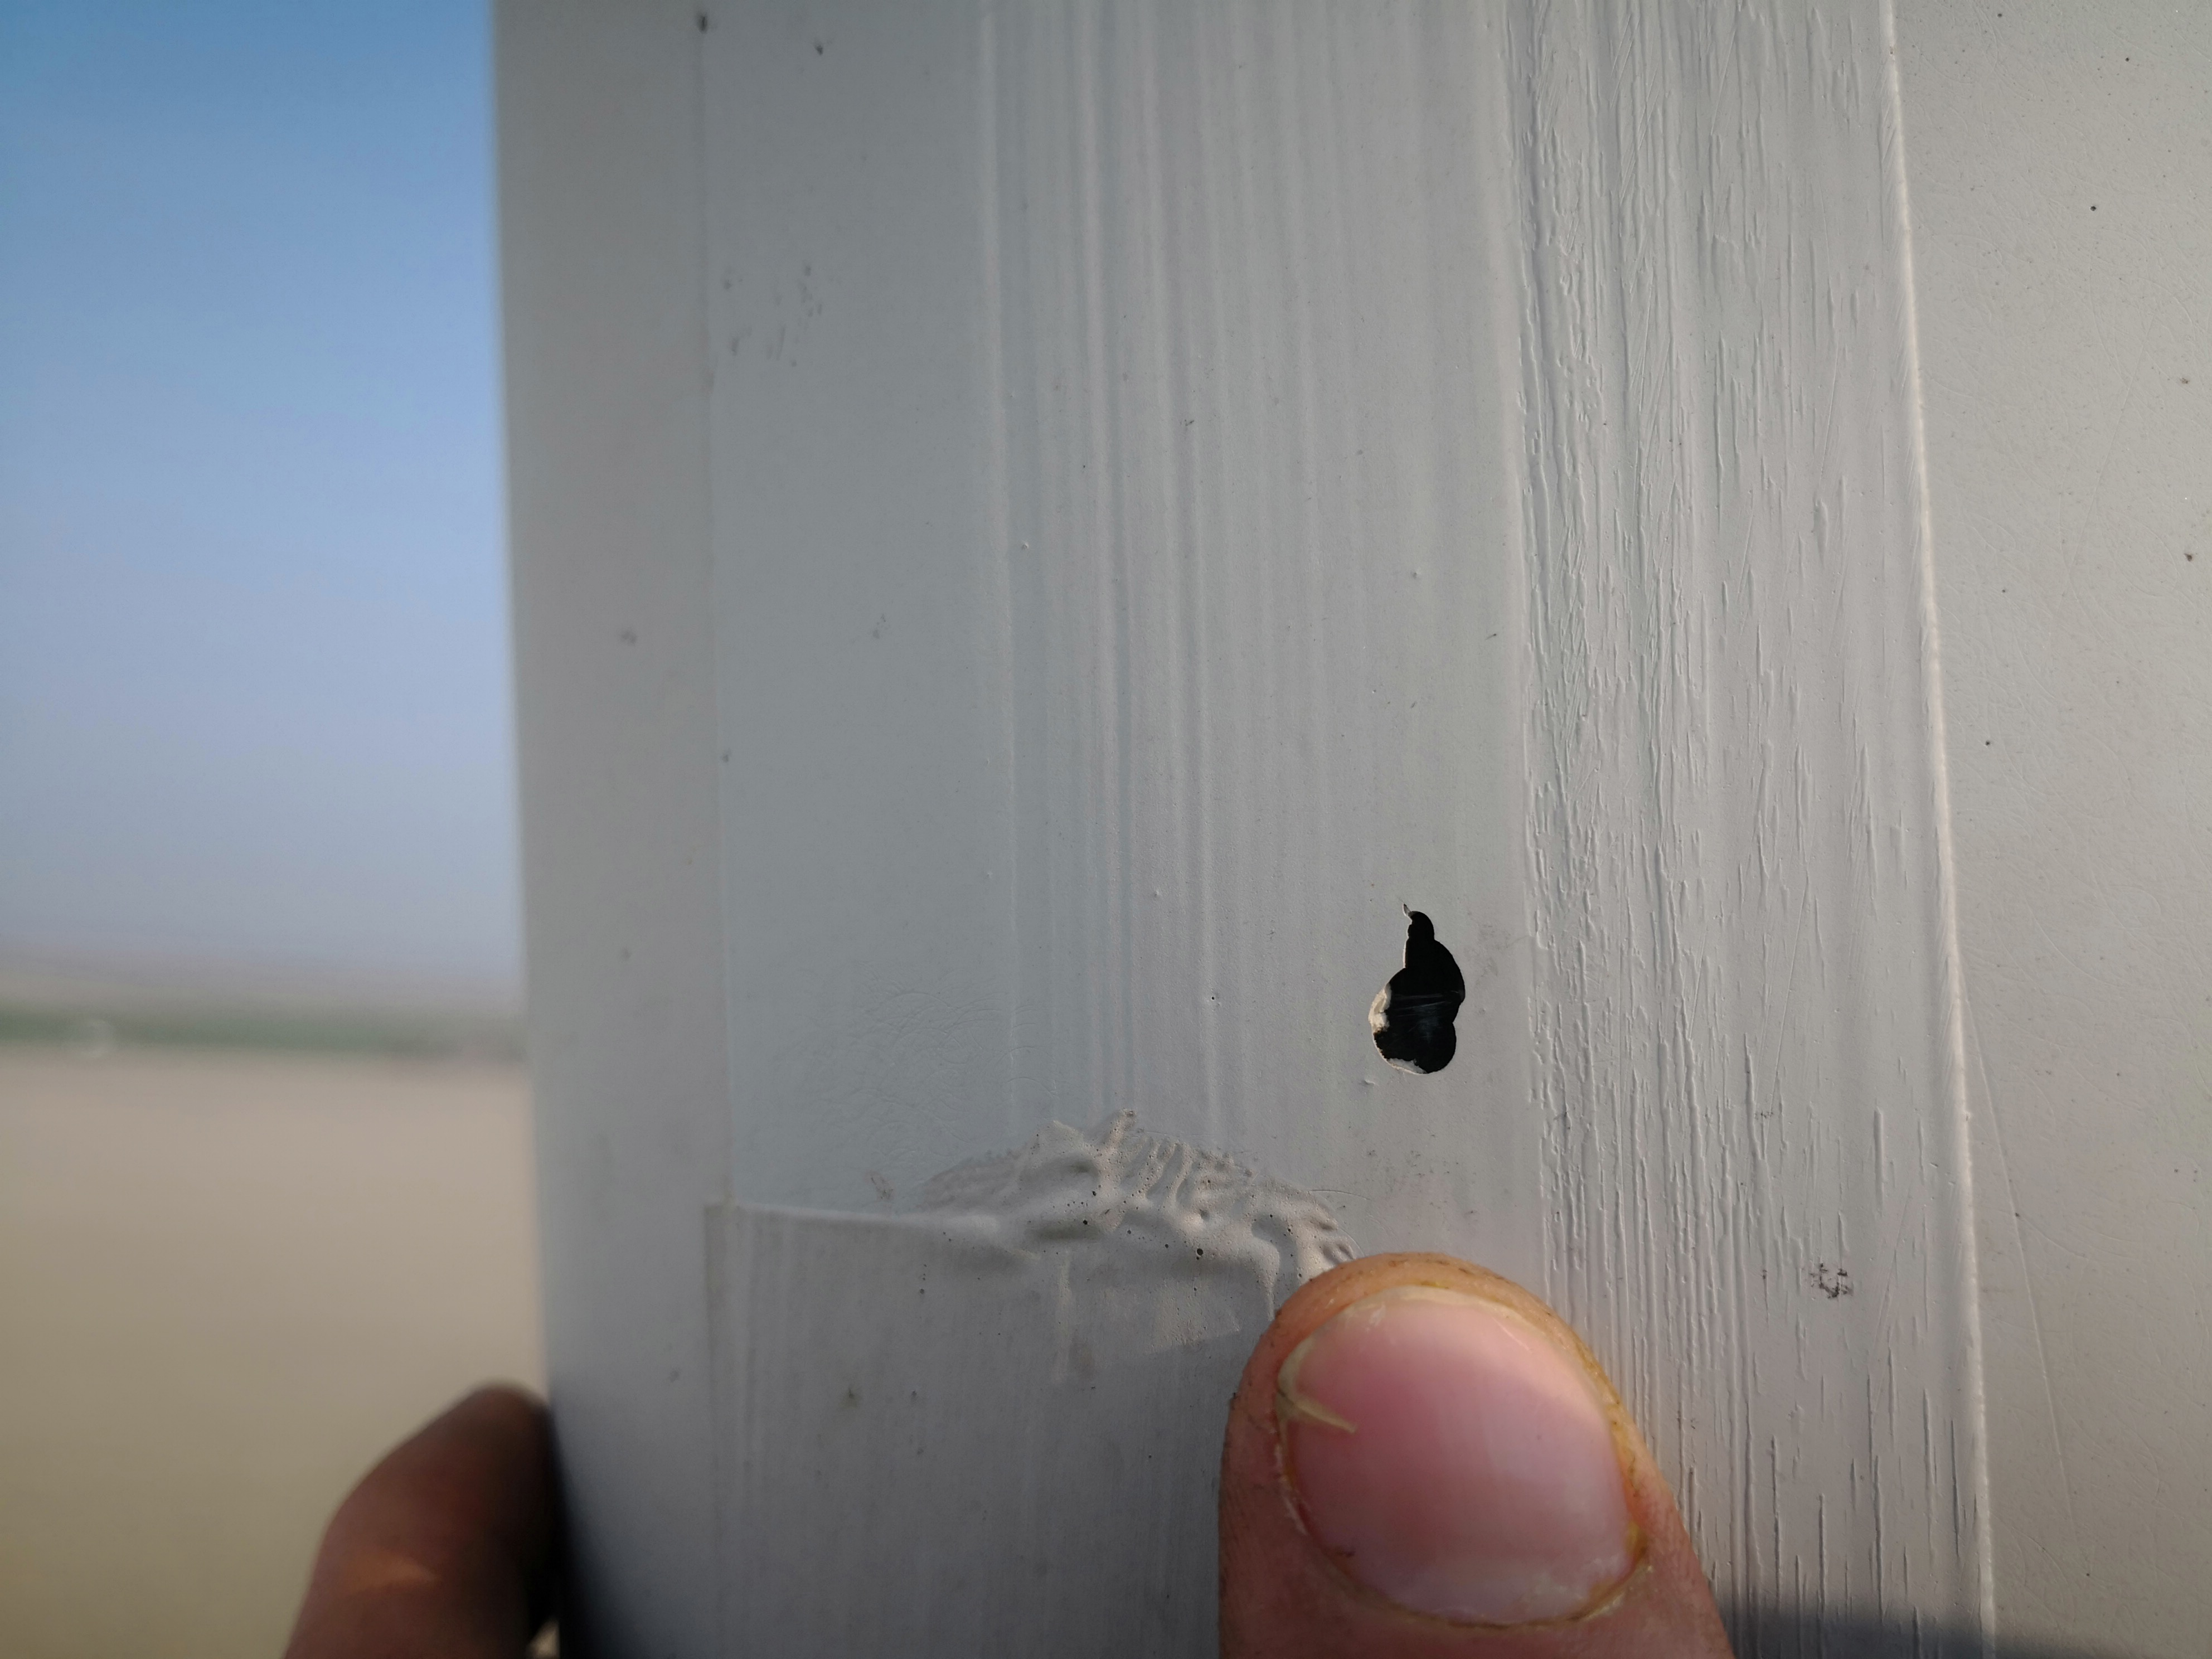SD: (876, 1103, 1292, 1284), (1320, 890, 1514, 1096)
